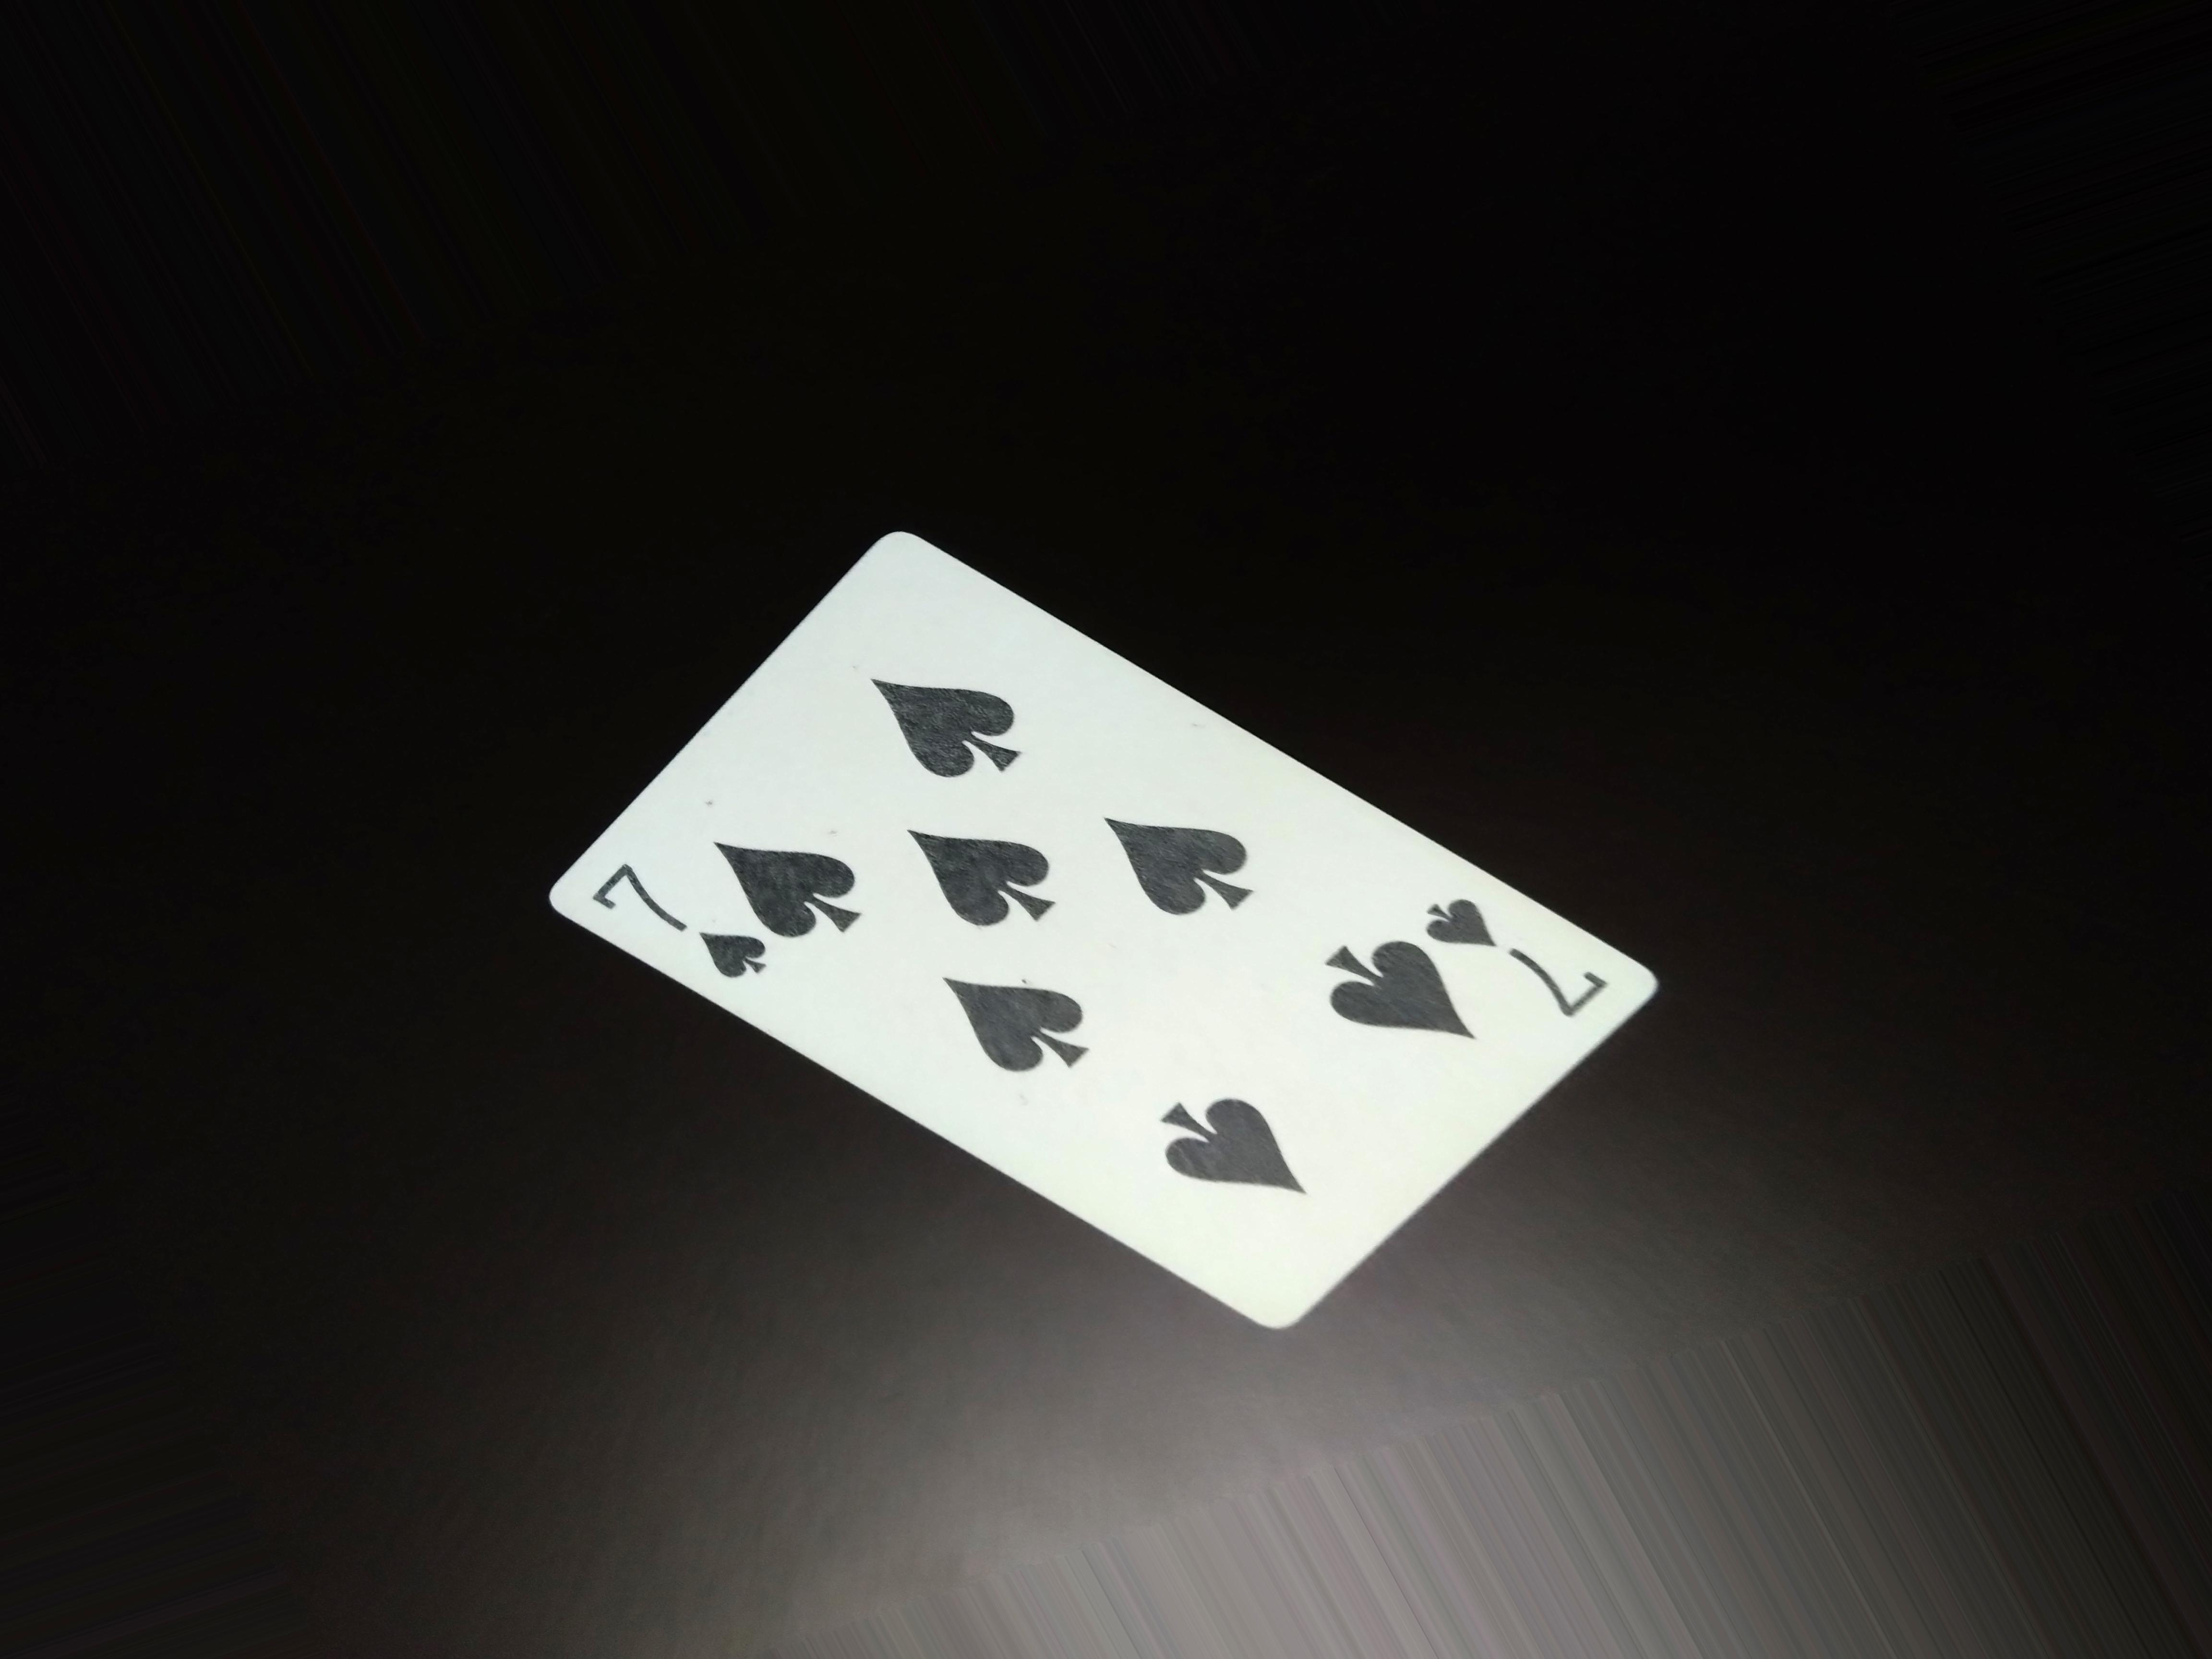7S: (1416, 894, 1656, 1049)
